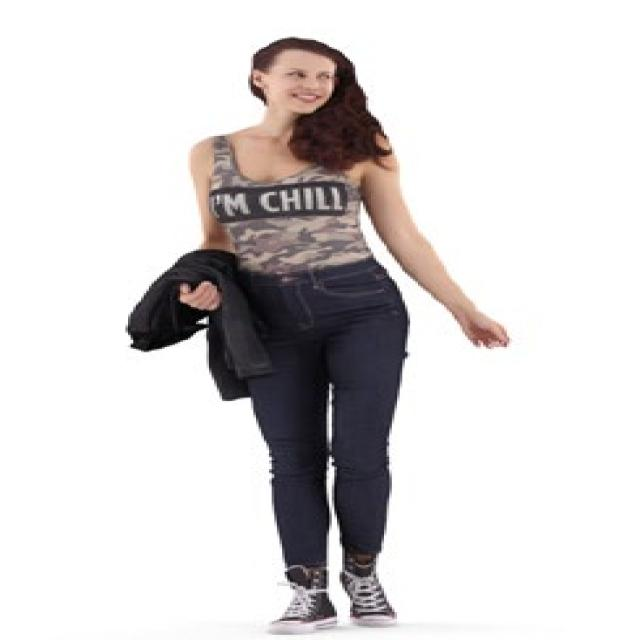standing: (119, 31, 526, 639)
